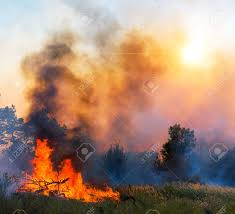fire: (15, 146, 122, 203)
